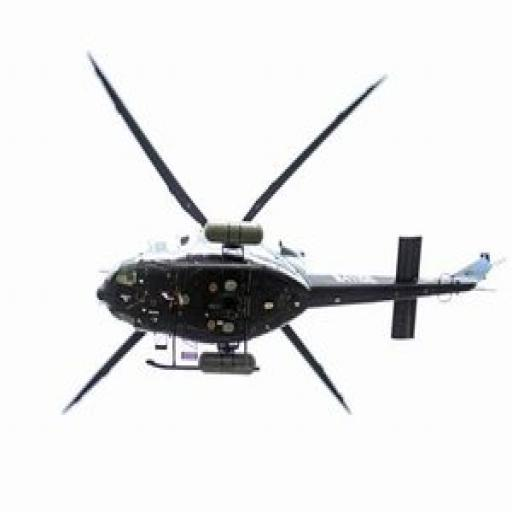helicopter: (61, 51, 503, 418)
